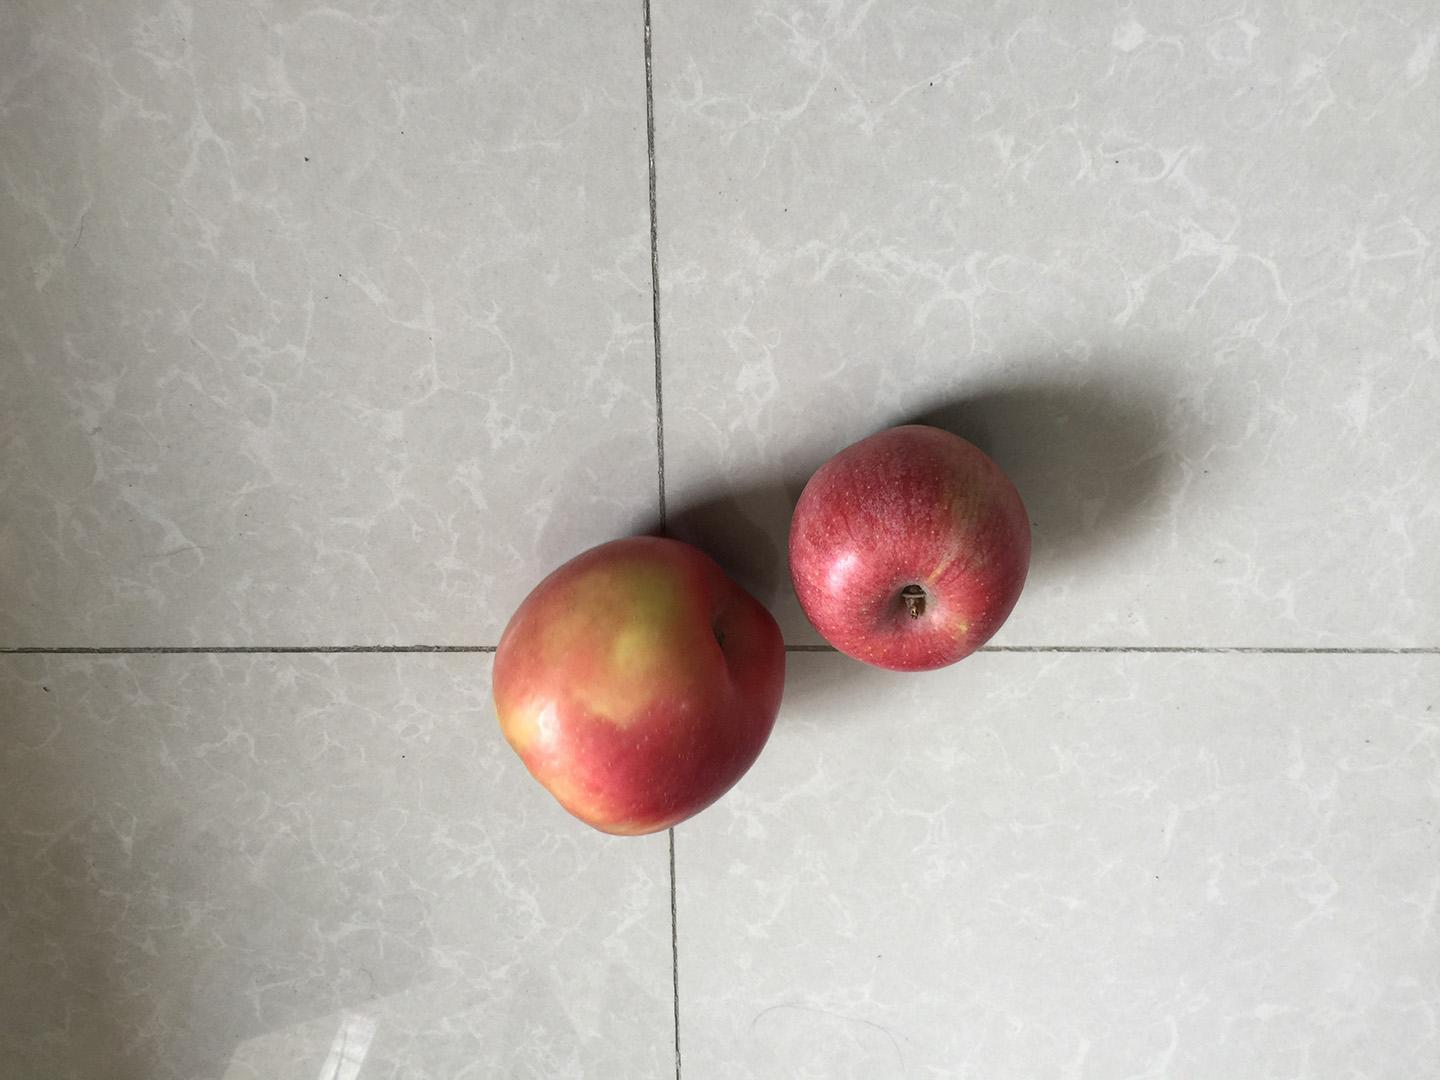apple: (482, 528, 791, 844), (782, 417, 1040, 678)
